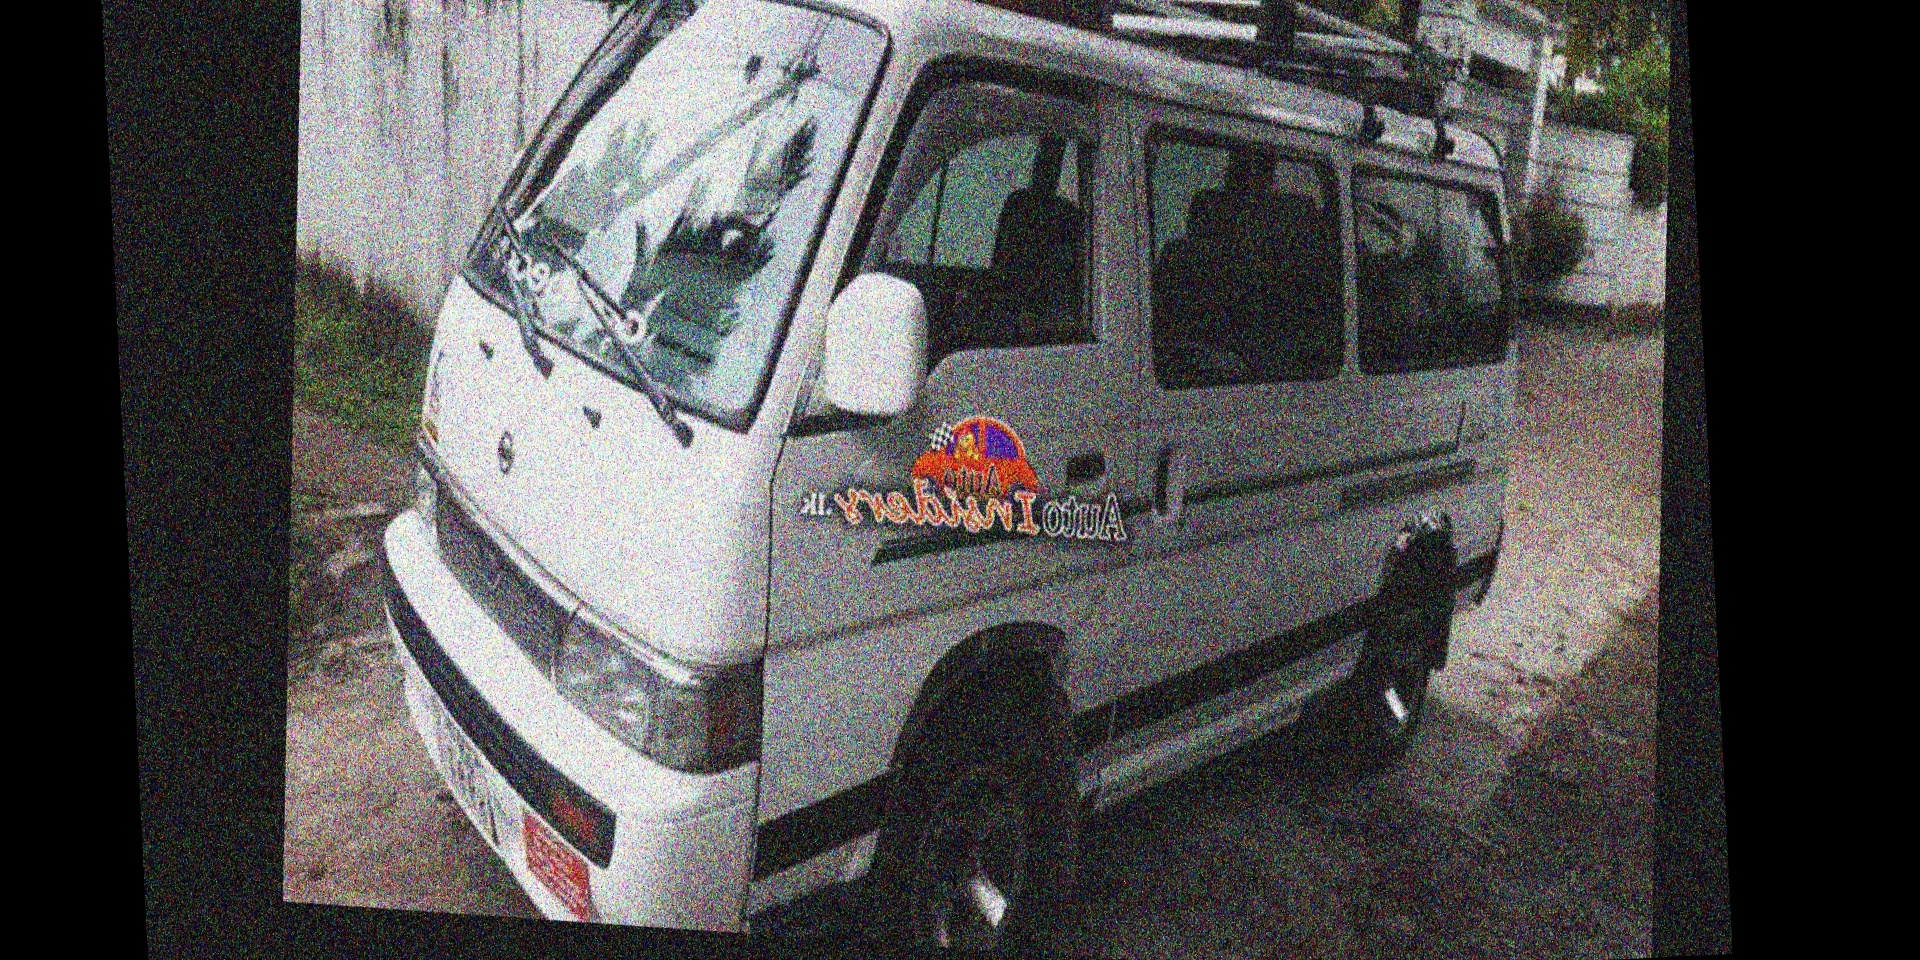van: (326, 0, 1582, 960)
